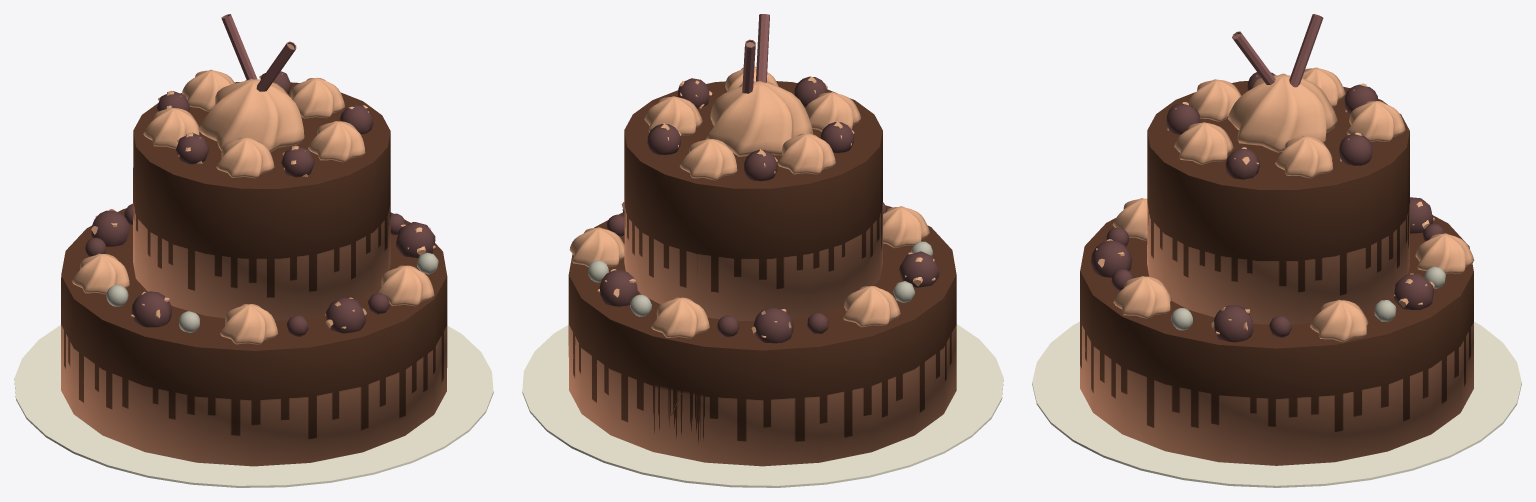
Rendered from Ciko_3.fbx.
The picture shows the model from 3 angles, left to right: view 1: azimuth 30°, elevation 25°; view 2: azimuth 150°, elevation 25°; view 3: azimuth 270°, elevation 25°; orthographic projection. The views are drawn at different scales.
Parts seen in each view (by area): view 1: Ciko_Kek_3; view 2: Ciko_Kek_3; view 3: Ciko_Kek_3.
Part boxes in pixels (x1,y1,x2,y2): Ciko_Kek_3: (14,14,493,487); Ciko_Kek_3: (522,14,1003,487); Ciko_Kek_3: (1032,14,1521,487).
Bounding box in the file's own units: 300 × 248 × 300.
